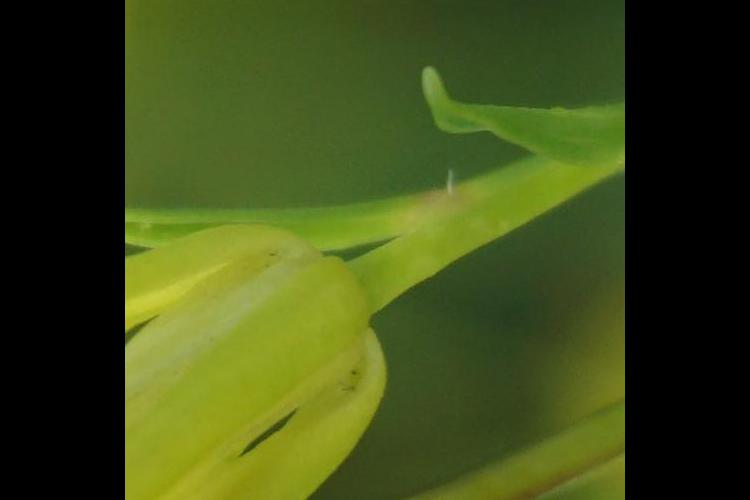yellow: (136, 222, 382, 500)
